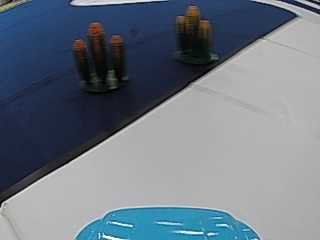corn: (73, 20, 128, 96), (172, 2, 217, 64)
